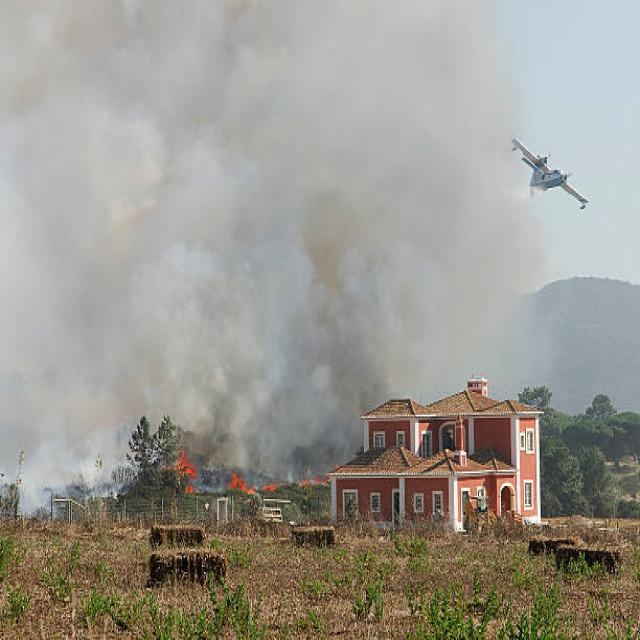Fire: (168, 448, 204, 497), (223, 472, 273, 502)
Smoke: (6, 0, 462, 488)
